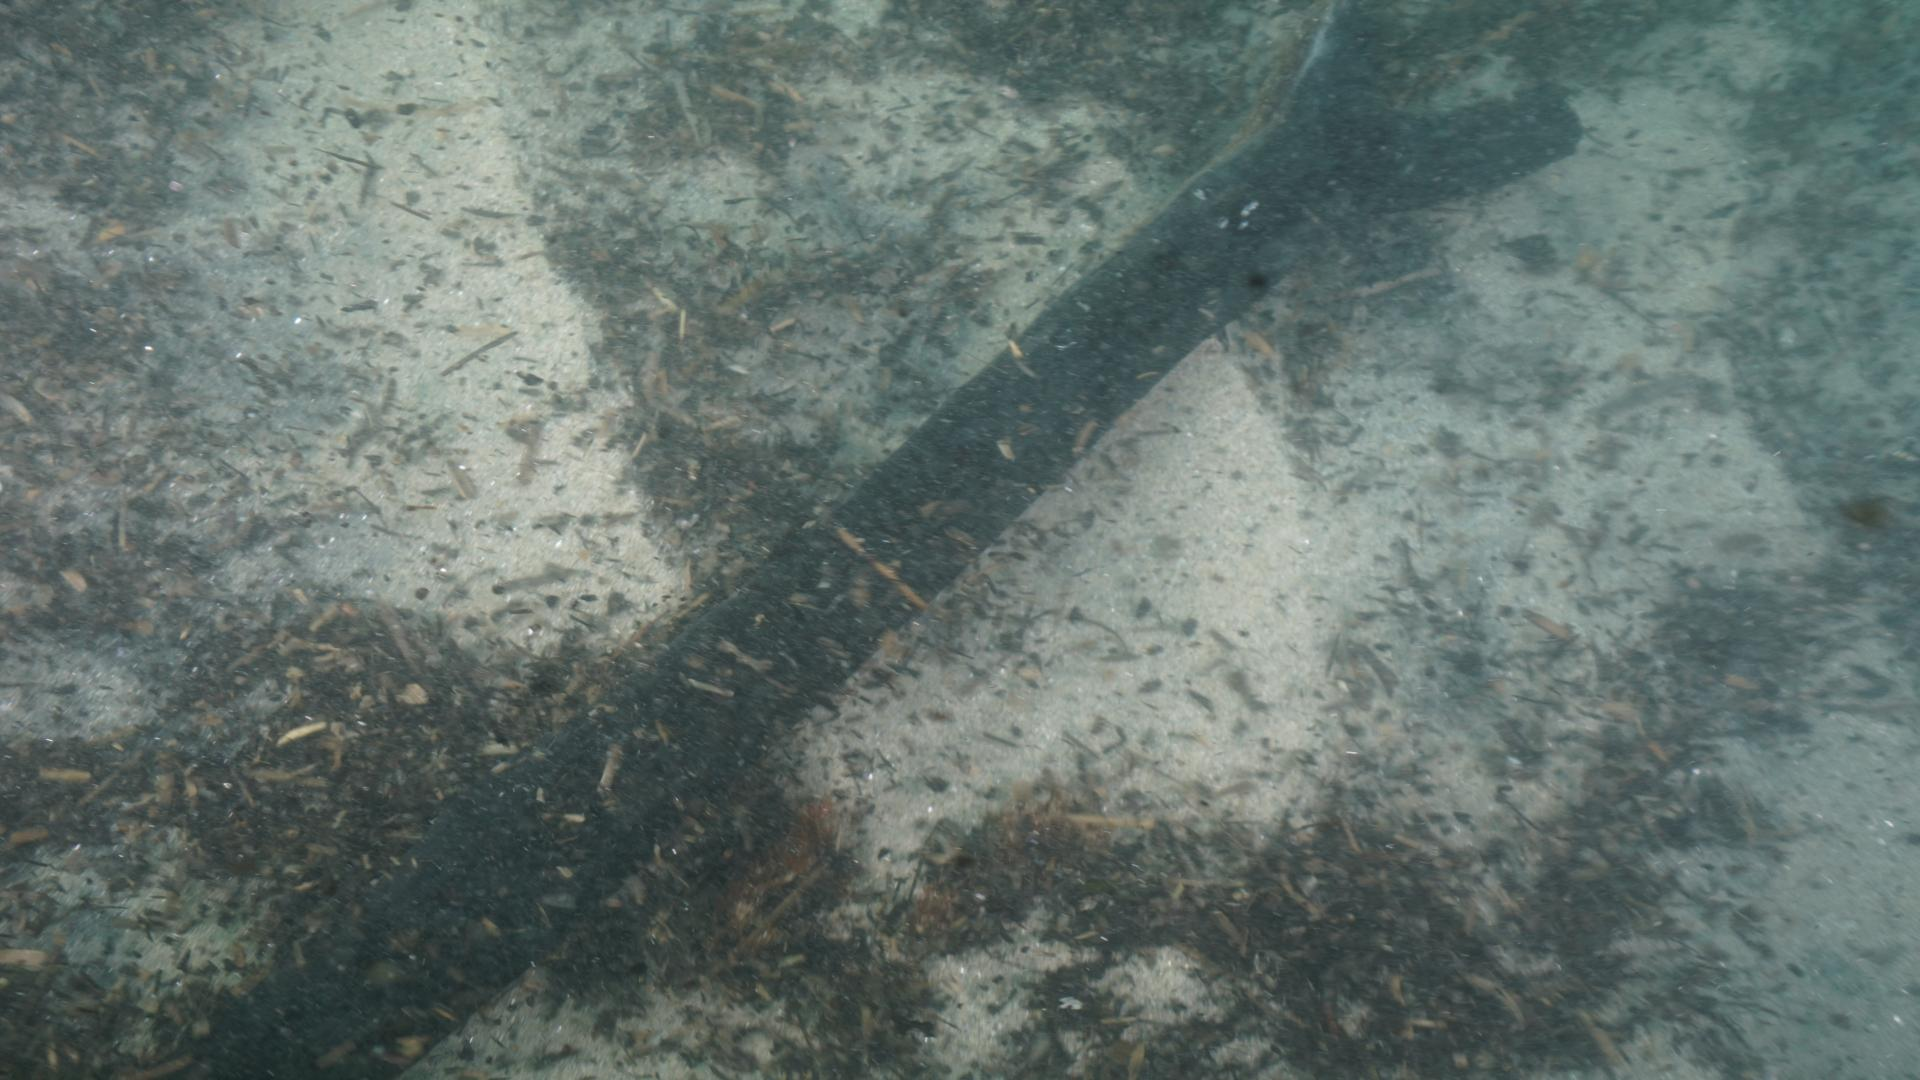wood: (142, 0, 1581, 1080)
